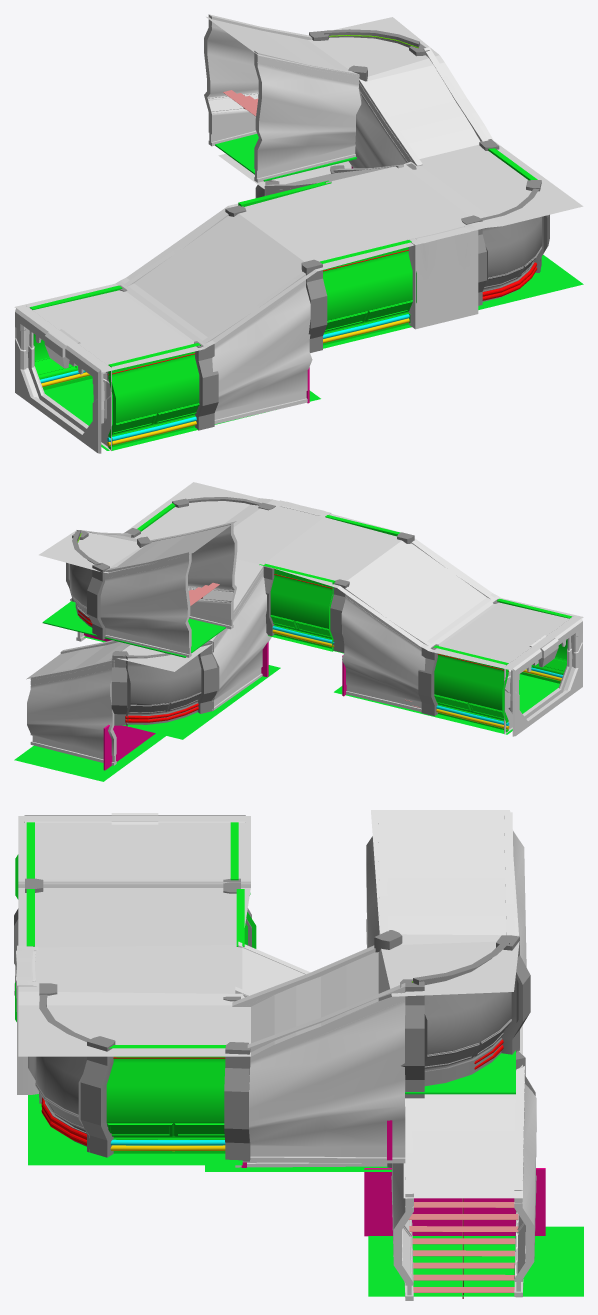
File: nave_pasillo.FBX
3 renders of one model, top to bottom at view 1: azimuth 30°, elevation 25°; view 2: azimuth 150°, elevation 25°; view 3: azimuth 270°, elevation 25°, orthographic. The views are drawn at different scales.
Visible parts, largest first — view 1: Plane001, pared_IZQ_primera_escalera004, pared_IZQ_primera_escalera001, pared_plana, pared_plana002, Box001, marcopuerta, pared_IZQ_primera_escalera003, suelo, pared012, pared_IZQ_primera_escalera005, columna010 (+6 smaller); view 2: Plane001, pared_IZQ_primera_escalera003, pared_IZQ_primera_escalera008, suelo, pared_IZQ_primera_escalera, pared_IZQ_primera_escalera007, pared_plana001, pared014, pared_plana007, pared_IZQ_primera_escalera004, marcopuerta, pareddetrasescalera (+10 smaller); view 3: Plane001, pared_IZQ_primera_escalera002, suelo, pared_plana005, pared013, escaleras2, pareddetrasescalera, pared_IZQ_primera_escalera008, pared012, pared_IZQ_primera_escalera009, columna020, columna019 (+12 smaller).
Part boxes in pixels (<box>): Plane001: <box>14,16,583,372</box>; pared_IZQ_primera_escalera004: <box>254,50,361,182</box>; pared_IZQ_primera_escalera001: <box>202,272,312,424</box>; pared_plana: <box>108,343,200,450</box>; pared_plana002: <box>320,240,416,348</box>; Box001: <box>407,224,478,329</box>; marcopuerta: <box>15,306,111,453</box>; pared_IZQ_primera_escalera003: <box>204,14,312,146</box>; suelo: <box>43,134,583,450</box>; pared012: <box>480,188,547,301</box>; pared_IZQ_primera_escalera005: <box>348,79,422,168</box>; columna010: <box>194,341,218,430</box>; Plane001: <box>26,482,583,679</box>; pared_IZQ_primera_escalera003: <box>100,550,191,657</box>; pared_IZQ_primera_escalera008: <box>27,659,116,765</box>; suelo: <box>14,601,559,781</box>; pared_IZQ_primera_escalera: <box>341,587,431,711</box>; pared_IZQ_primera_escalera007: <box>208,562,271,711</box>; pared_plana001: <box>433,645,508,732</box>; pared014: <box>125,653,201,726</box>; pared_plana007: <box>259,564,335,651</box>; pared_IZQ_primera_escalera004: <box>150,522,237,629</box>; marcopuerta: <box>504,616,582,736</box>; pareddetrasescalera: <box>84,633,346,770</box>; Plane001: <box>18,810,522,1198</box>; pared_IZQ_primera_escalera002: <box>242,983,405,1163</box>; suelo: <box>28,1050,583,1296</box>; pared_plana005: <box>106,1045,225,1153</box>; pared013: <box>413,940,518,1086</box>; escaleras2: <box>408,1198,518,1298</box>; pareddetrasescalera: <box>241,1120,545,1236</box>; pared_IZQ_primera_escalera008: <box>514,1066,536,1297</box>; pared012: <box>29,994,90,1151</box>; pared_IZQ_primera_escalera009: <box>391,1098,413,1300</box>; columna020: <box>224,1042,250,1161</box>; columna019: <box>80,1036,115,1157</box>.
Size of the model in its own units: 4043 by 2210 by 3093.
